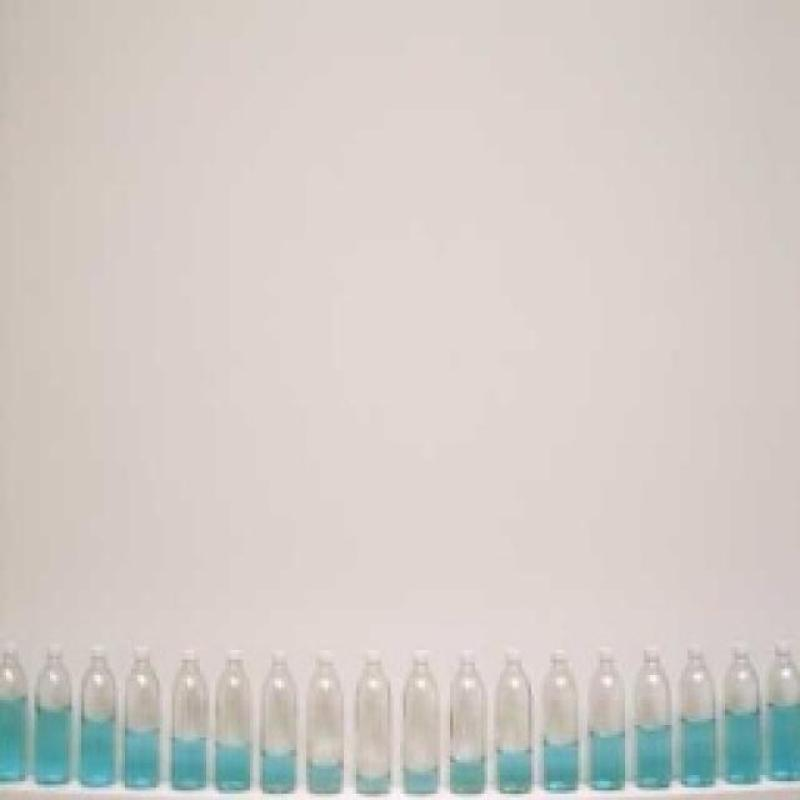botella: (447, 652, 488, 796), (540, 652, 582, 792), (304, 650, 344, 794), (400, 652, 440, 796), (492, 652, 533, 792), (586, 650, 626, 790), (259, 652, 297, 796), (355, 652, 393, 796), (725, 645, 763, 786), (124, 648, 161, 790), (634, 651, 672, 789), (34, 647, 72, 784), (680, 649, 718, 786), (80, 644, 114, 791), (765, 640, 800, 782), (173, 650, 208, 790), (215, 652, 250, 792), (0, 645, 31, 783)
